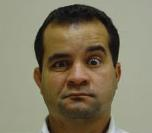normalMouth: (63, 90, 97, 101)
strokeEyeSevere: (47, 46, 109, 72)
